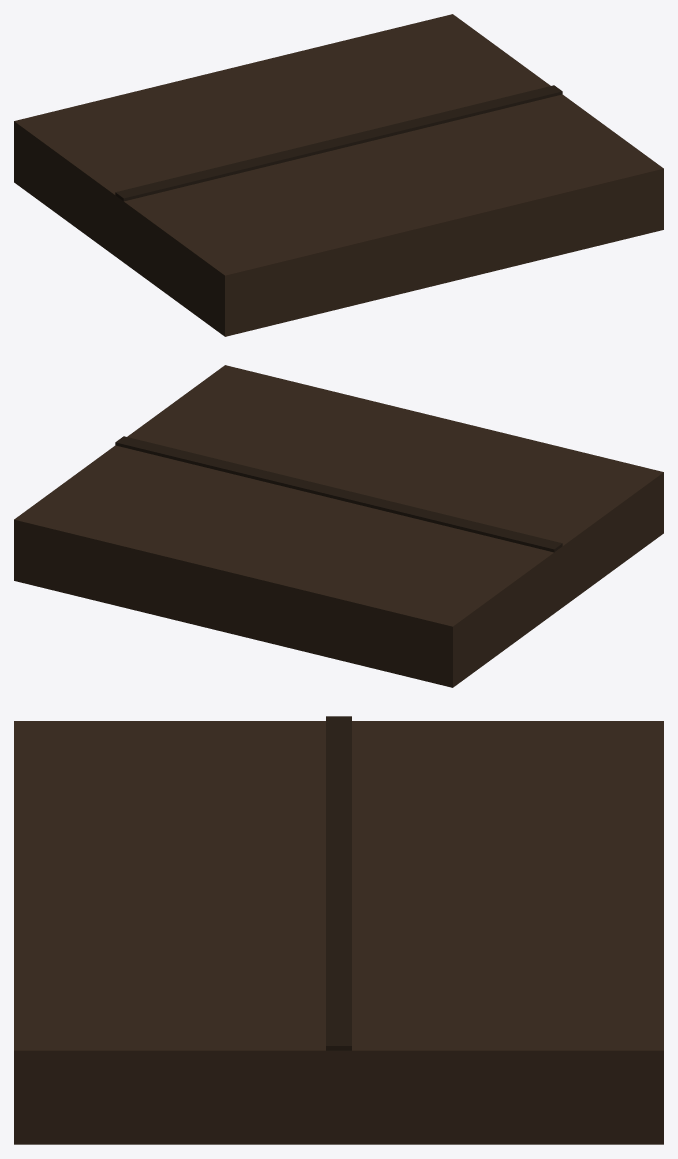
Rendered from boots.glb.
The picture shows the model from 3 angles, top to bottom: view 1: azimuth 30°, elevation 25°; view 2: azimuth 150°, elevation 25°; view 3: azimuth 270°, elevation 25°; orthographic projection. The views are drawn at different scales.
Parts seen in each view (by area): view 1: boots; view 2: boots; view 3: boots.
Boxes of the visible parts, box(x1,y1,x2,y2) form: boots: box(14, 14, 663, 336); boots: box(14, 365, 663, 687); boots: box(14, 716, 663, 1144).
Size of the model in its own units: 0.35 by 0.049 by 0.2917.
